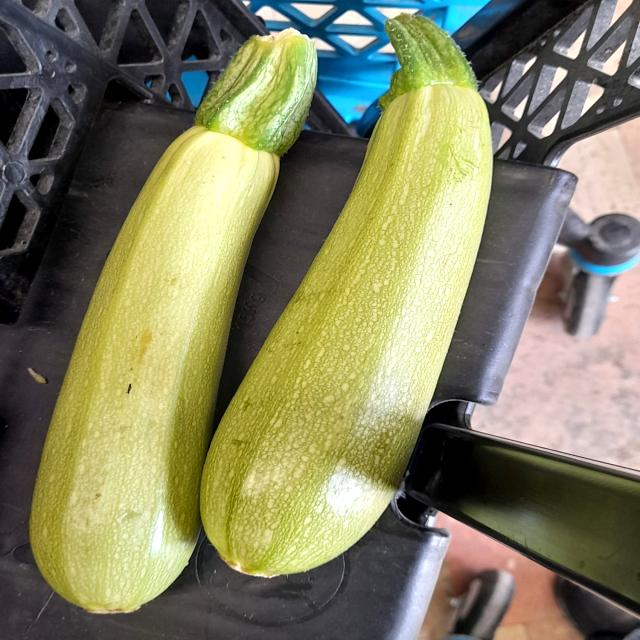zucchini: (21, 25, 340, 611), (193, 10, 498, 582)
